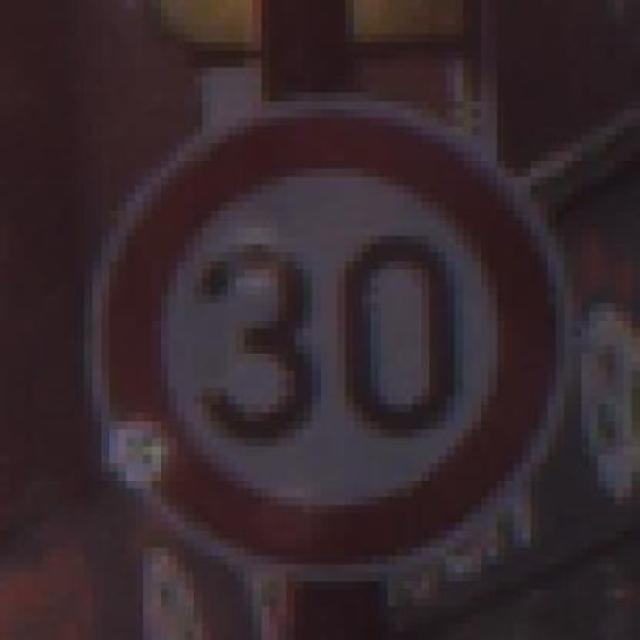Speed Limit 30 KMPh: (42, 67, 590, 590)
